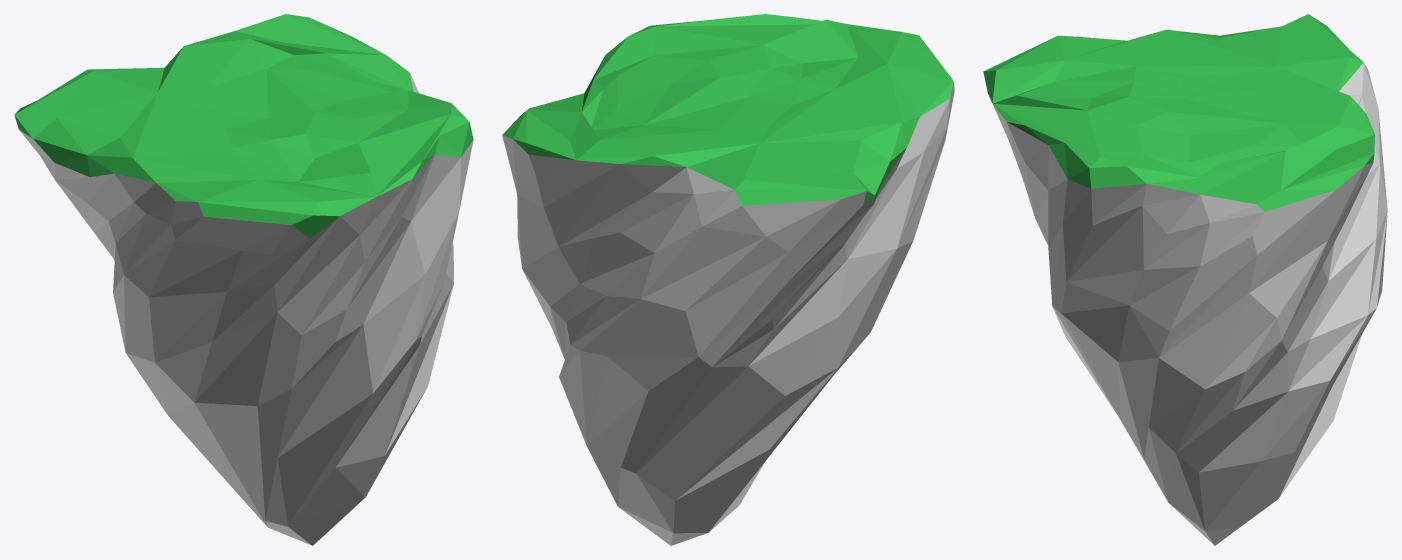
The model's file is island_5.fbx.
The picture shows the model from 3 angles, left to right: view 1: azimuth 30°, elevation 25°; view 2: azimuth 150°, elevation 25°; view 3: azimuth 270°, elevation 25°; orthographic projection. The views are drawn at different scales.
Parts seen in each view (by area): view 1: Plane; view 2: Plane; view 3: Plane.
Boxes of the visible parts, x1,y1,x2,y2 form: Plane: (14, 14, 473, 545); Plane: (502, 14, 954, 545); Plane: (983, 14, 1387, 545).
Size of the model in its own units: 2323 by 2724 by 2331.
